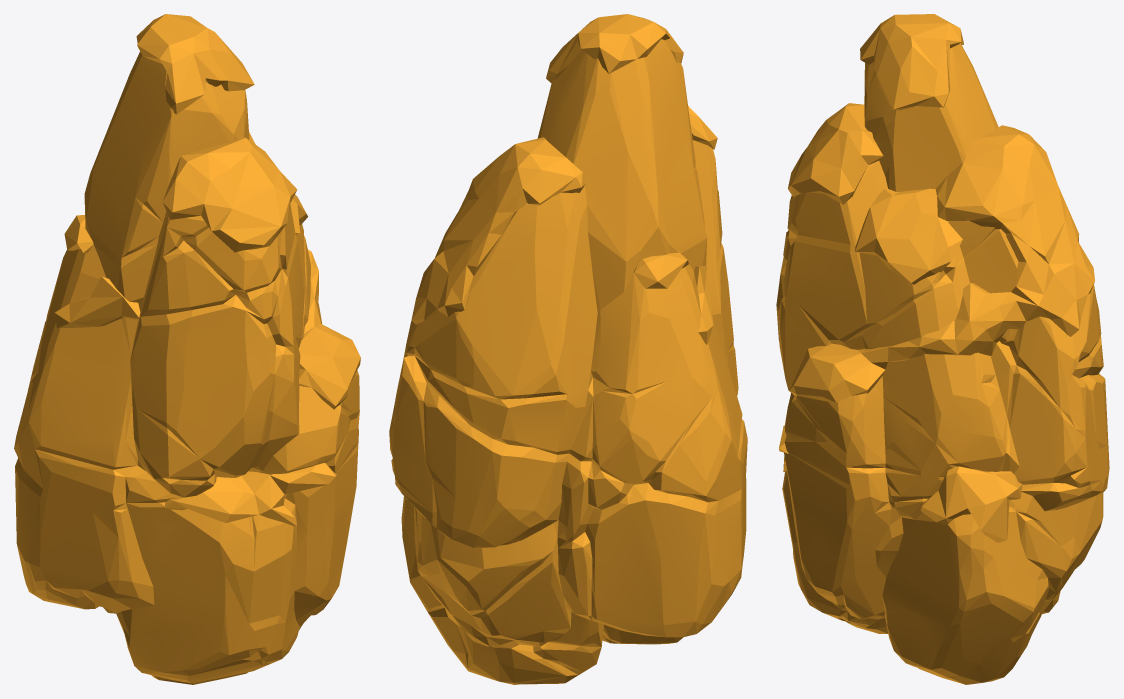
The model's file is SM_Rock_D_Snow.fbx.
3 renders of one model, left to right at view 1: azimuth 30°, elevation 25°; view 2: azimuth 150°, elevation 25°; view 3: azimuth 270°, elevation 25°, orthographic. The views are drawn at different scales.
Visible parts, largest first — view 1: rock-d-snow; view 2: rock-d-snow; view 3: rock-d-snow.
Boxes of the visible parts, left/top/right/bottom form: rock-d-snow: left=14, top=14, right=360, bottom=684; rock-d-snow: left=389, top=14, right=747, bottom=684; rock-d-snow: left=776, top=14, right=1109, bottom=684.
Size of the model in its own units: 8.74 by 17.46 by 8.53.
